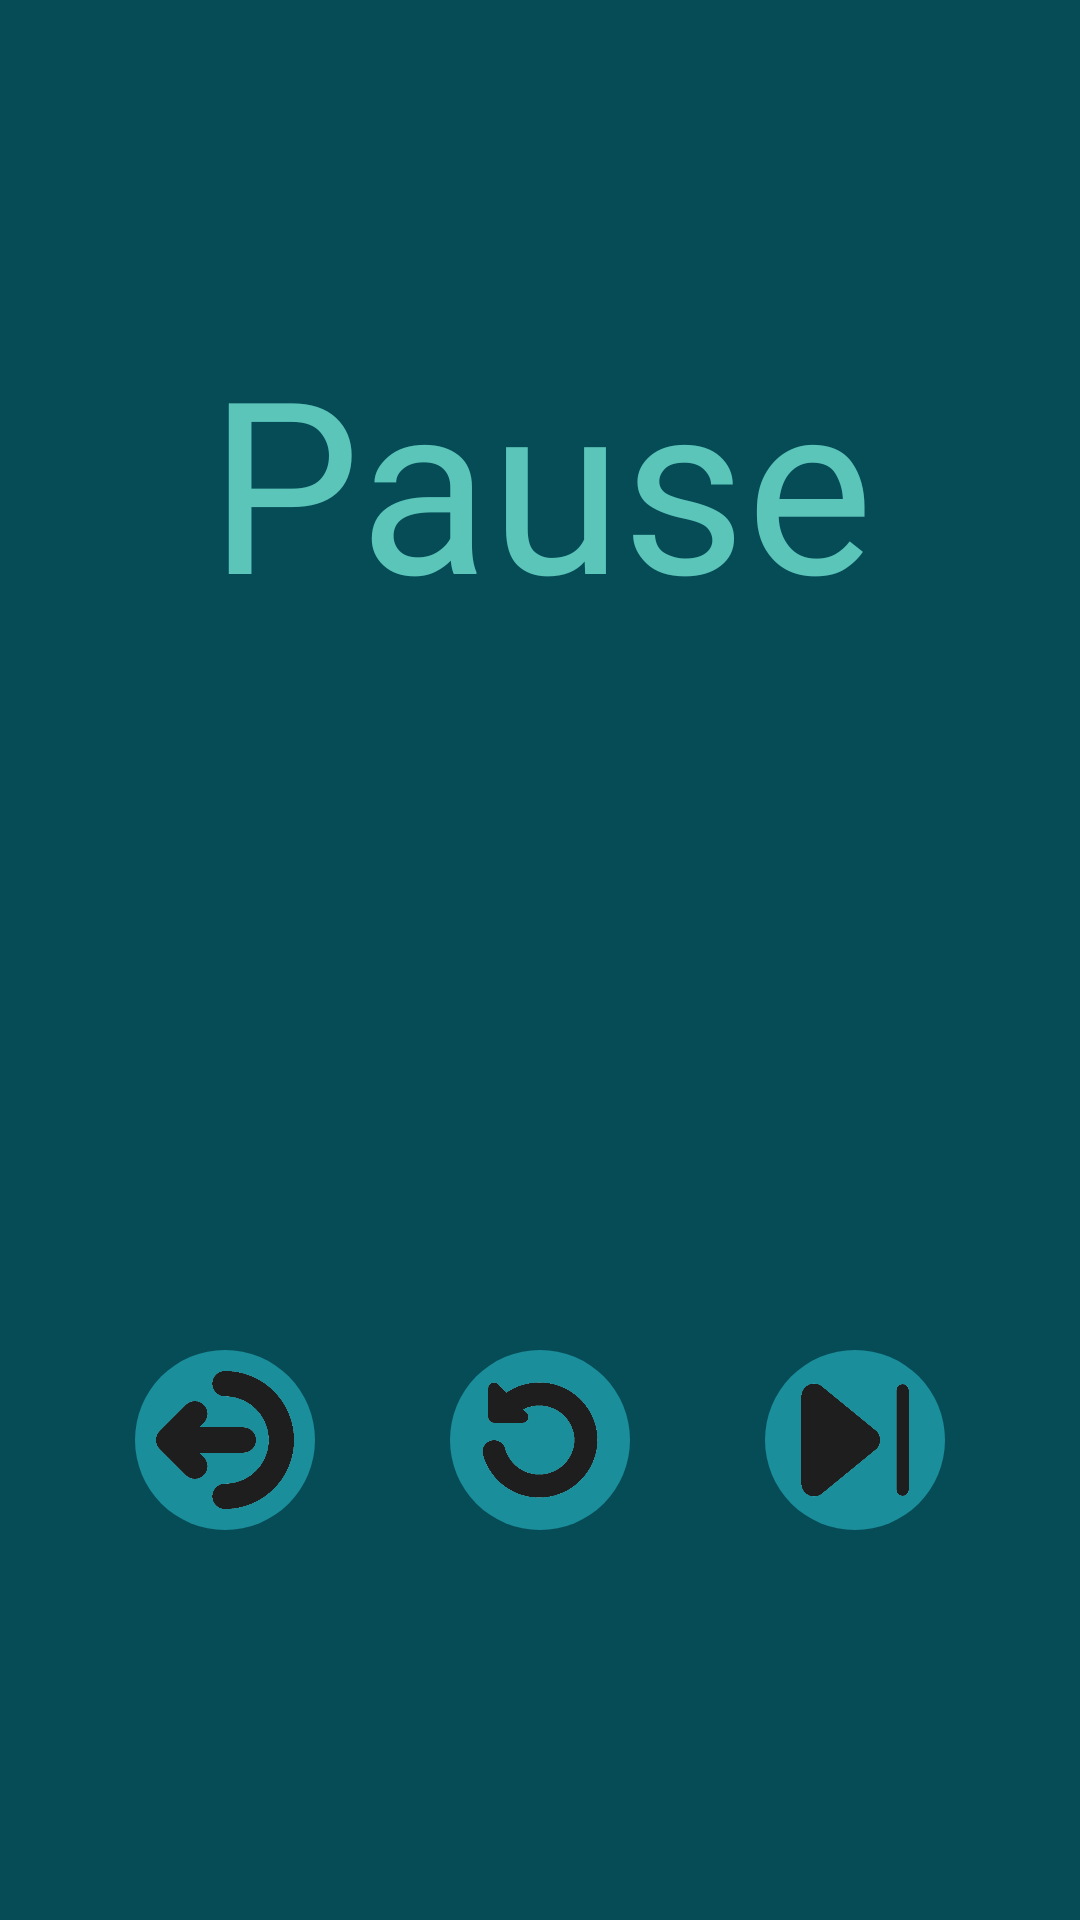

Screen size 1080w x 1920h. Icon name, then its center in pixels as [x,y]:
Quit: [225,1440]
Restart: [540,1440]
Resume: [855,1440]
